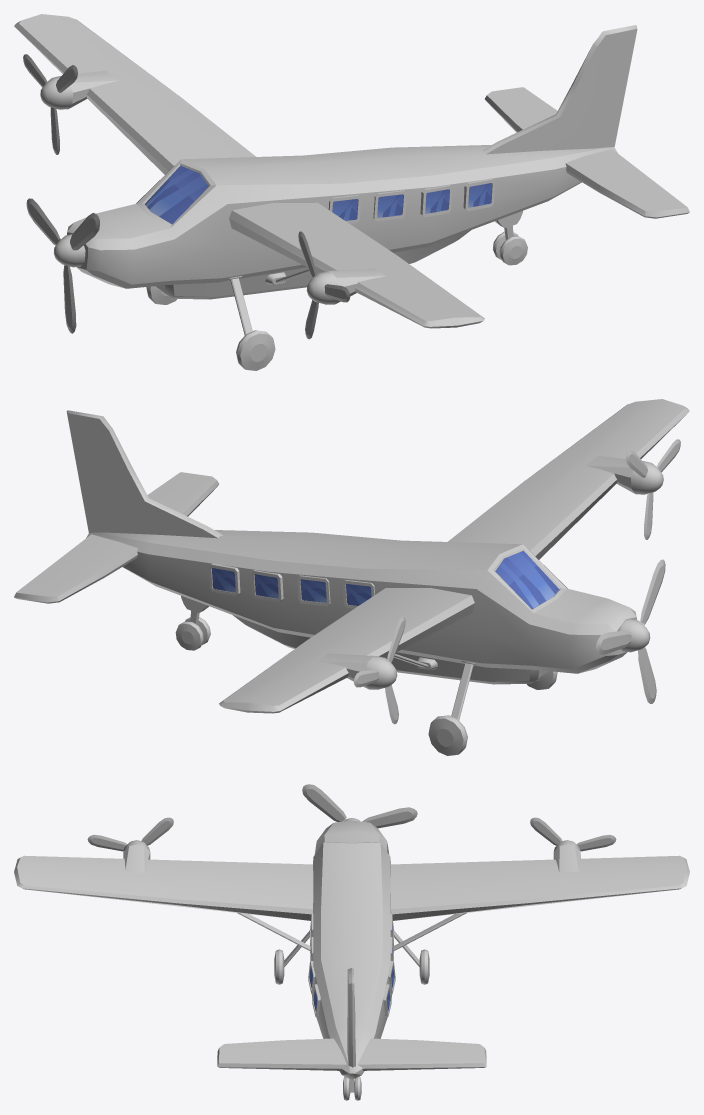
The picture shows the model from 3 angles, top to bottom: view 1: azimuth 30°, elevation 25°; view 2: azimuth 150°, elevation 25°; view 3: azimuth 270°, elevation 25°; orthographic projection. The views are drawn at different scales.
Parts seen in each view (by area): view 1: Plane_1_C, Propeler_F, Propeler_L, Propeler_R; view 2: Plane_1_C, Propeler_F, Propeler_R, Propeler_L; view 3: Plane_1_C, Propeler_F, Propeler_L, Propeler_R.
Boxes of the visible parts, x1,y1,x2,y2 form: Plane_1_C: (14,14,689,370); Propeler_F: (26,198,99,333); Propeler_L: (298,231,350,339); Propeler_R: (23,54,77,154); Plane_1_C: (14,399,689,755); Propeler_F: (596,559,665,703); Propeler_R: (353,616,405,724); Propeler_L: (626,439,680,539); Plane_1_C: (14,818,689,1100); Propeler_F: (302,784,417,828); Propeler_L: (87,817,173,851); Propeler_R: (530,817,616,851).
Size of the model in its own units: 18.45 by 6.38 by 22.98.
